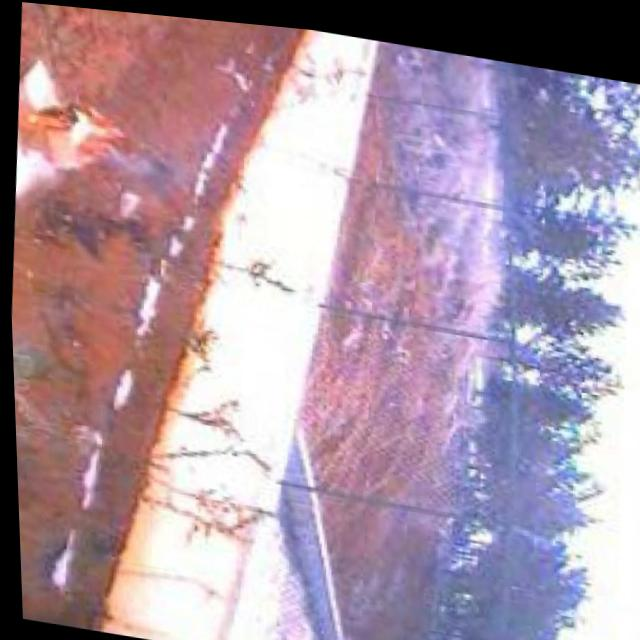Fire: (13, 91, 171, 185)
